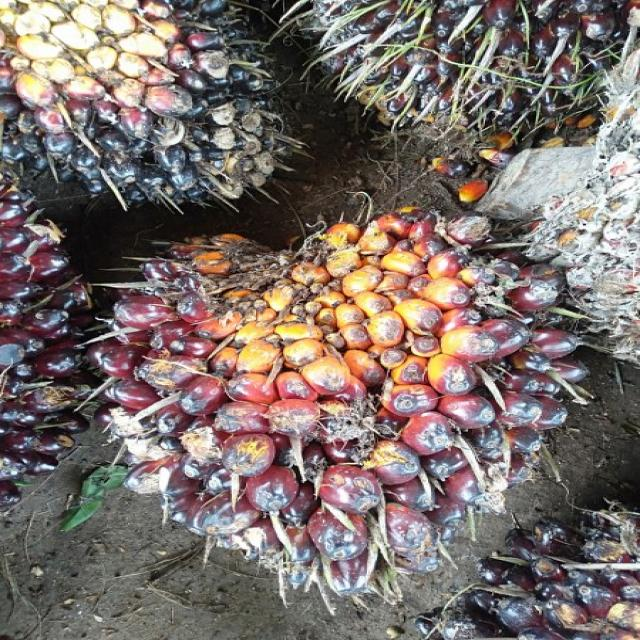fraksi 1: (81, 226, 594, 584)
